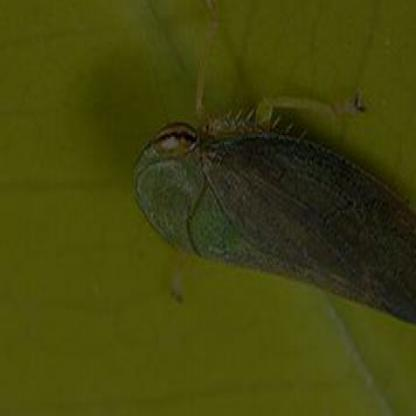green-leafhopper: (133, 105, 416, 318)
